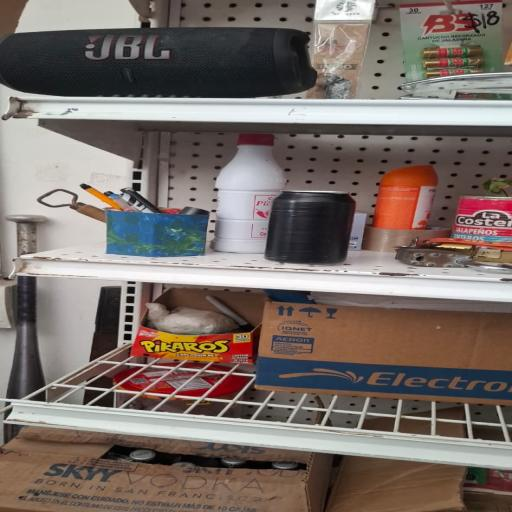LATA: (255, 185, 366, 269)
